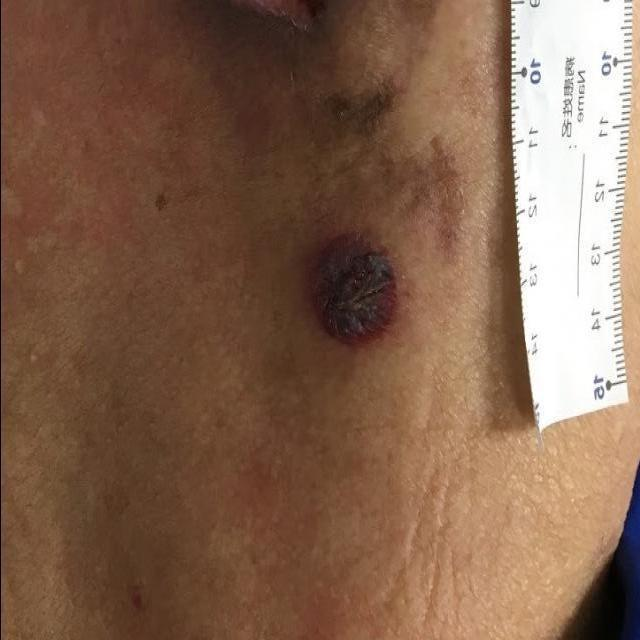DTI: (305, 235, 403, 344)
